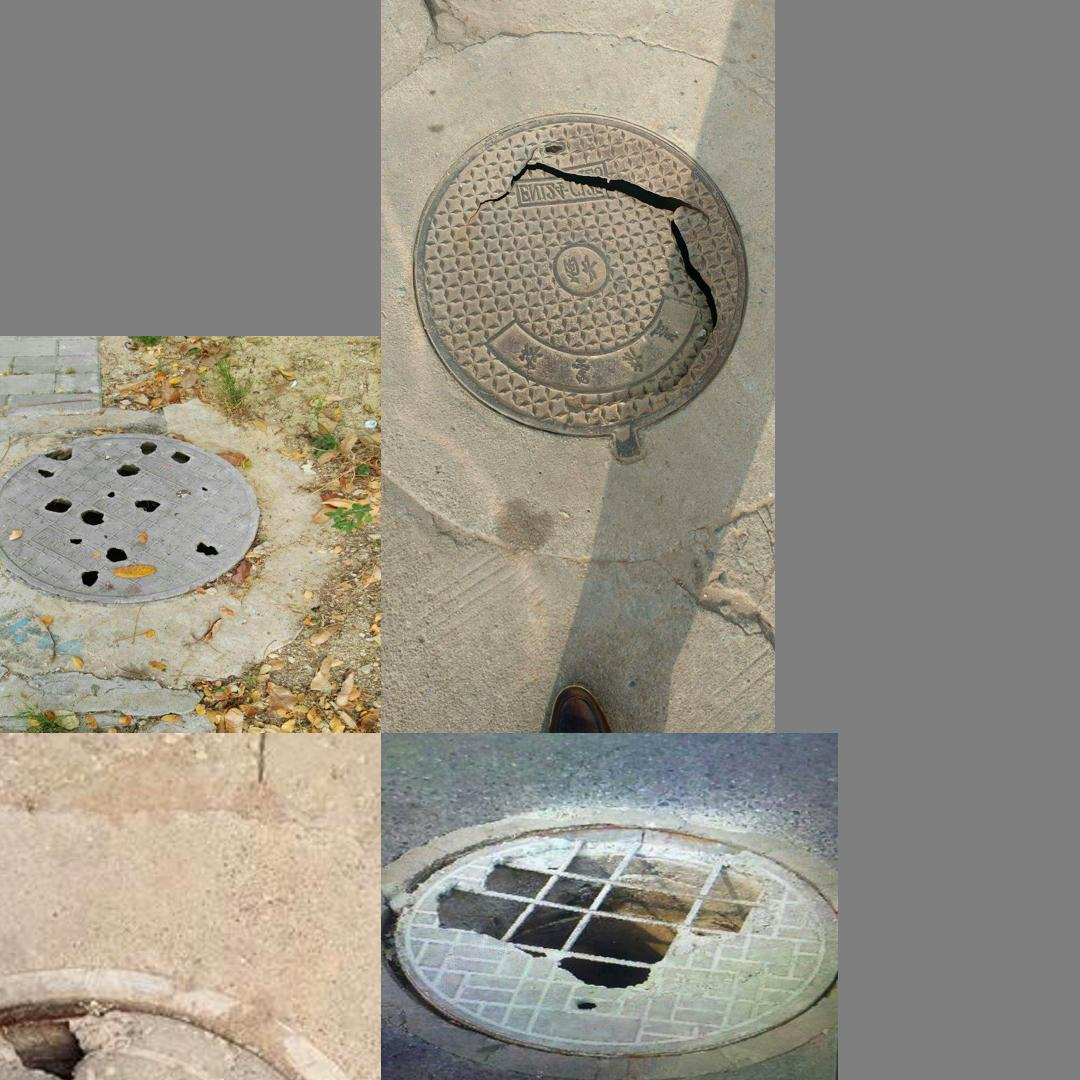broke: (389, 789, 834, 1074), (411, 112, 748, 466), (0, 952, 376, 1080), (0, 432, 260, 603)
